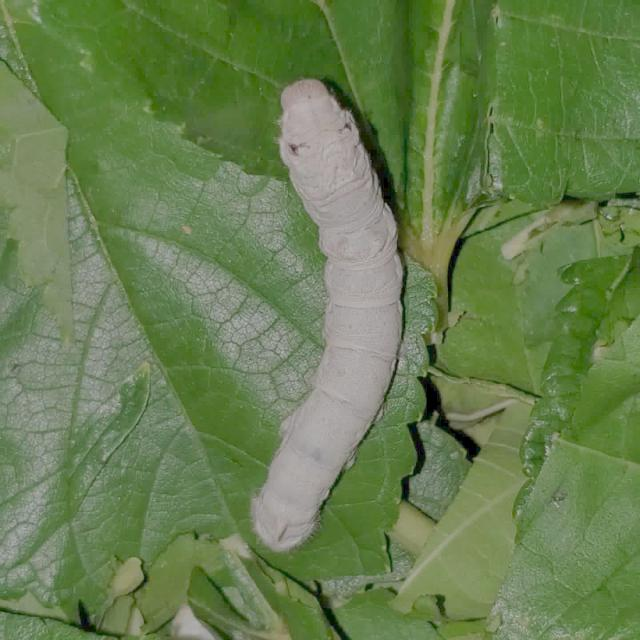Healthy: (231, 69, 417, 553)
